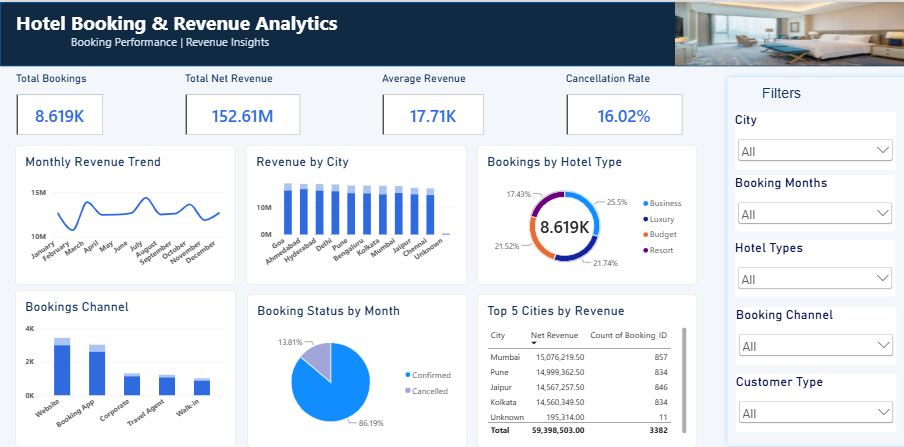

This screenshot's page, from the dashboard's own definition file:
{"tool":"powerbi","page":{"name":"Page 1","canvas":[1520,750],"ordinal":0},"visuals":[{"type":"shape","box":[1210.7,116.4,317.9,631.4],"z":0},{"type":"cardVisual","title":"Total Bookings ","fields":{"Data":["Count(Hotel_Booking_Final.Booking_ID)"]},"box":[33.1,116.2,145.4,105.4],"z":1000},{"type":"cardVisual","title":"Total Net Revenue","fields":{"Data":["Sum(Hotel_Booking_Final.Revenue_After_Discount)"]},"box":[314.6,116.2,192.3,105.4],"z":2000},{"type":"cardVisual","title":"Average Revenue","fields":{"Data":["Avg(Hotel_Booking_Final.Revenue_After_Discount)"]},"box":[643.1,116.2,170,105.4],"z":3000},{"type":"cardVisual","title":"Cancellation Rate","fields":{"Data":["Hotel_Booking_Final.Cancellation Rate"]},"box":[949.2,116.2,194.6,105.4],"z":4000},{"type":"lineChart","title":"Monthly Revenue Trend","fields":{"Y":["Sum(Hotel_Booking_Final.Revenue_After_Discount)"],"Category":["Hotel_Booking_Final.Booking_Month.Variation.Date Hierarchy.Month"]},"box":[32.3,237.7,366.9,233.1],"z":5000},{"type":"columnChart","title":"Revenue by City","fields":{"Category":["Hotel_Booking_Final.City"],"Y":["Sum(Hotel_Booking_Final.Revenue_After_Discount)"]},"box":[417,238,368,233],"z":6000},{"type":"donutChart","title":"Bookings by Hotel Type","fields":{"Category":["Hotel_Booking_Final.Hotel_Type"],"Y":["Count(Hotel_Booking_Final.Booking_ID)"]},"box":[802,238,367,233],"z":7000},{"type":"clusteredColumnChart","title":"Bookings Channel","fields":{"Y":["CountNonNull(Hotel_Booking_Final.Booking_ID)"],"Category":["Hotel_Booking_Final.Booking_Channel"]},"box":[31.5,480,367.7,262.3],"z":8000},{"type":"pieChart","title":"Booking Status by Month","fields":{"Category":["Hotel_Booking_Final.Booking_Status"],"Y":["CountNonNull(Hotel_Booking_Final.Booking_Month)"]},"box":[417.7,486.2,366.9,256.2],"z":9000},{"type":"slicer","title":"Hotel Types","fields":{"Values":["Hotel_Booking_Final.Hotel_Type"]},"box":[1232.1,397.1,267.1,93.6],"z":10000},{"type":"slicer","title":"City","fields":{"Values":["Hotel_Booking_Final.City"]},"box":[1232.1,182.9,267.5,96.2],"z":11000},{"type":"slicer","title":"Booking Channel","fields":{"Values":["Hotel_Booking_Final.Booking_Channel"]},"box":[1232.9,507.9,267.1,97.1],"z":12000},{"type":"slicer","title":"Booking Months","fields":{"Values":["Hotel_Booking_Final.Booking_Date.Variation.Date Hierarchy.Month"]},"box":[1232.1,287.9,267.1,93.6],"z":13000},{"type":"slicer","title":"Customer Type","fields":{"Values":["Hotel_Booking_Final.Customer_Type"]},"box":[1232.9,620,267.1,97.1],"z":14000},{"type":"textbox","box":[1340,254.5,172.7,39.1],"z":15000},{"type":"shape","box":[7.1,0,1512.1,107.1],"z":16000},{"type":"textbox","box":[32.9,12.1,787.9,95],"z":17000},{"type":"textbox","box":[124.3,52.9,399,30],"z":18000},{"type":"image","box":[1211,0,308,106],"z":19000},{"type":"tableEx","title":"Top 5 Cities by Revenue","fields":{"Values":["Hotel_Booking_Final.City","Sum(Hotel_Booking_Final.Revenue_After_Discount)","Hotel_Booking_Final.Booking_ID"]},"box":[802.3,486.2,366.9,256.2],"z":20000},{"type":"textbox","box":[1276.9,137.7,89.2,31.5],"z":21000}]}

Visuals, with their boxes in screenshot pixels (x1, y1, x2, y2), scaled from the page's 1520x750 canvas onto the 904x447 screenshot:
shape: detection(720, 69, 903, 446)
"Total Bookings " cardVisual: detection(20, 69, 106, 132)
"Total Net Revenue" cardVisual: detection(187, 69, 301, 132)
"Average Revenue" cardVisual: detection(382, 69, 484, 132)
"Cancellation Rate" cardVisual: detection(565, 69, 680, 132)
"Monthly Revenue Trend" lineChart: detection(19, 142, 237, 281)
"Revenue by City" columnChart: detection(248, 142, 467, 281)
"Bookings by Hotel Type" donutChart: detection(477, 142, 695, 281)
"Bookings Channel" clusteredColumnChart: detection(19, 286, 237, 442)
"Booking Status by Month" pieChart: detection(248, 290, 467, 442)
"Hotel Types" slicer: detection(733, 237, 892, 292)
"City" slicer: detection(733, 109, 892, 166)
"Booking Channel" slicer: detection(733, 303, 892, 361)
"Booking Months" slicer: detection(733, 172, 892, 227)
"Customer Type" slicer: detection(733, 370, 892, 427)
textbox: detection(797, 152, 900, 175)
shape: detection(4, 0, 903, 64)
textbox: detection(20, 7, 488, 64)
textbox: detection(74, 32, 311, 49)
image: detection(720, 0, 903, 63)
"Top 5 Cities by Revenue" tableEx: detection(477, 290, 695, 442)
textbox: detection(759, 82, 812, 101)
